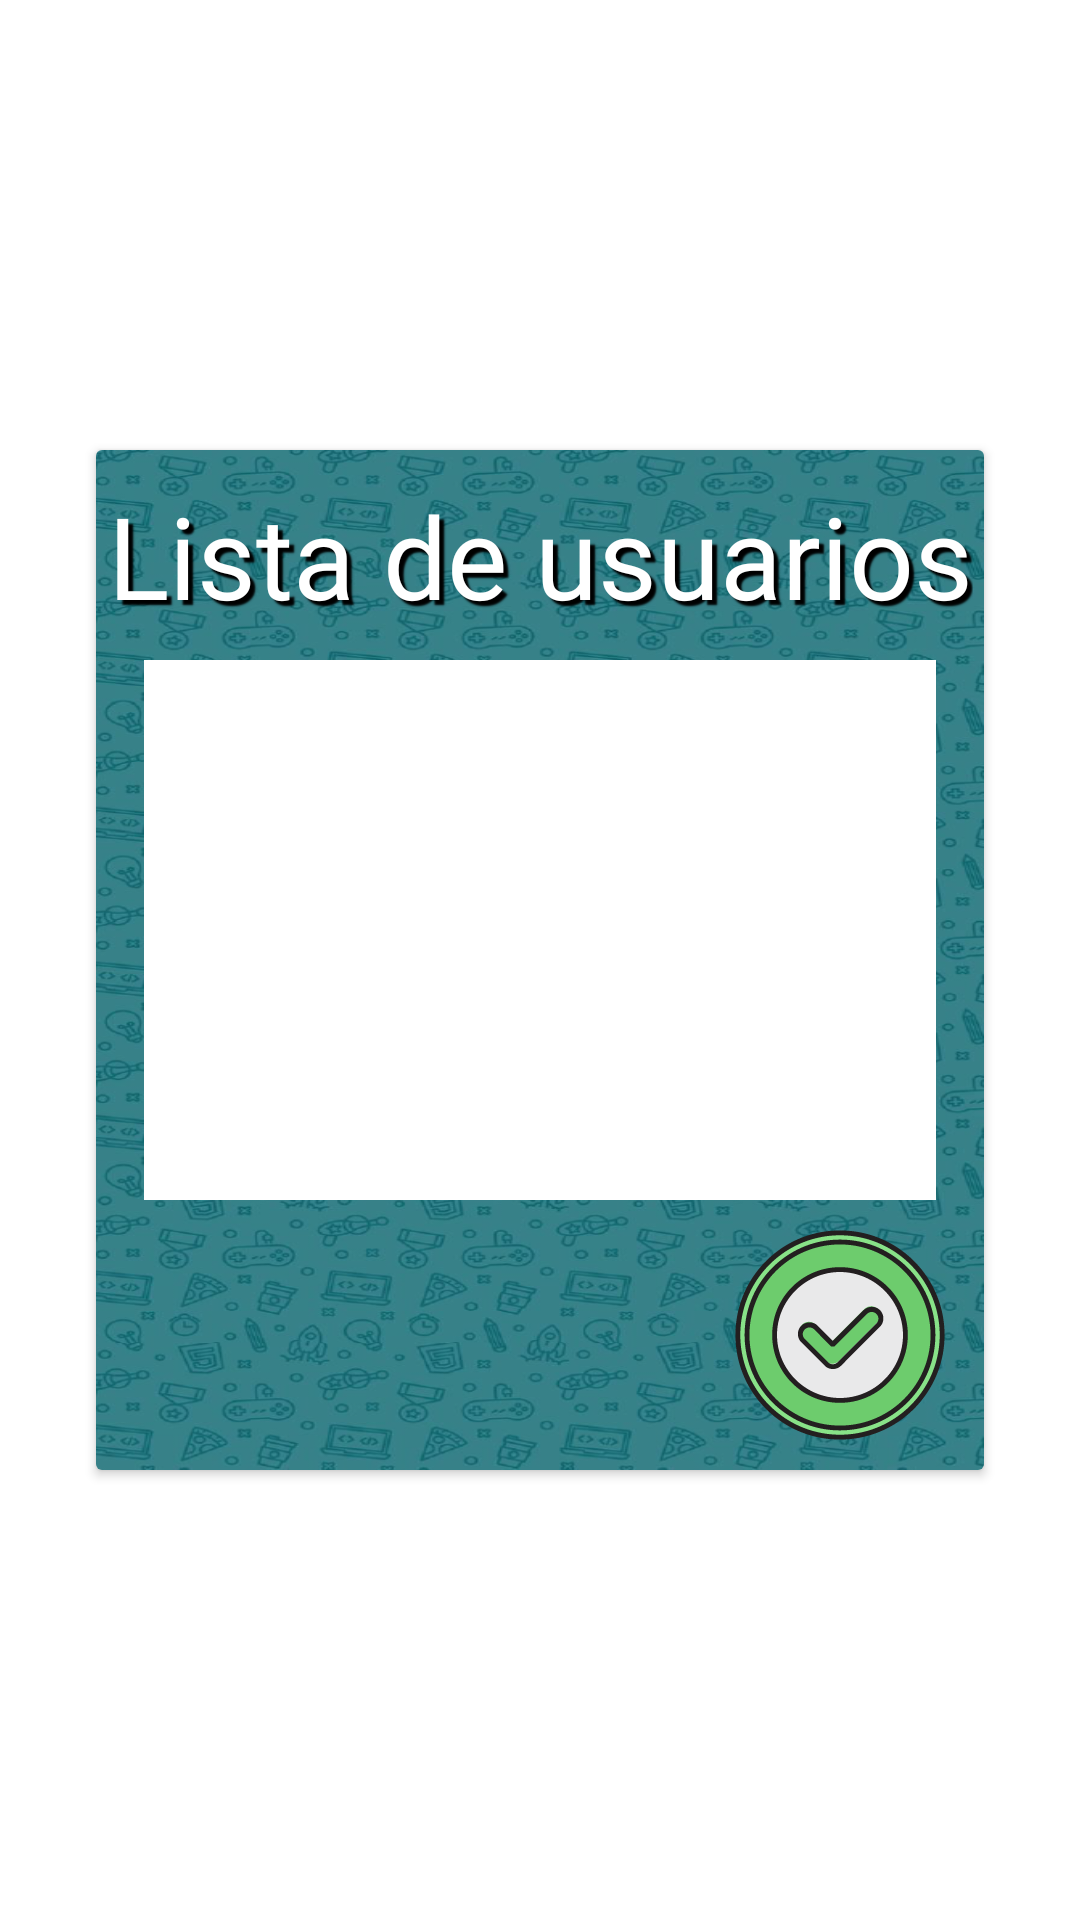

Screen size 1080x1920. Icon name, then its center in pixels as [x,y]:
aceptar: [840,1335]
